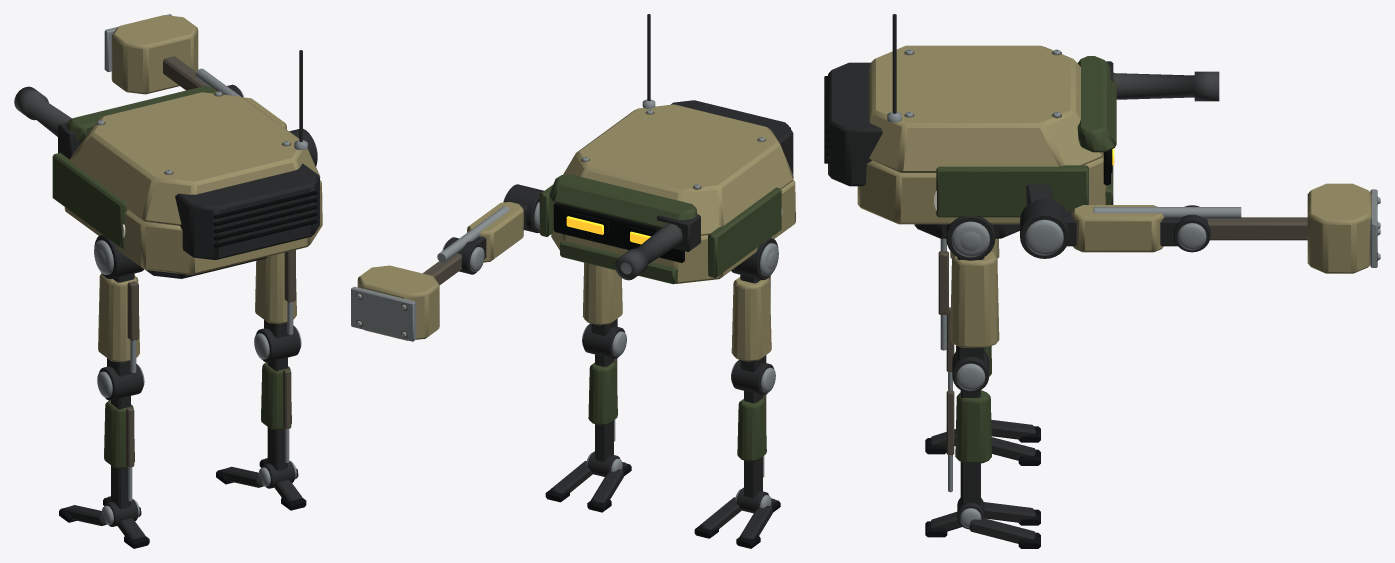
File: strider_09.glb
3 views of the same model, side by side, from view 1: azimuth 30°, elevation 25°; view 2: azimuth 150°, elevation 25°; view 3: azimuth 270°, elevation 25° (orthographic). The views are drawn at different scales.
Visible parts, largest first — view 1: HullSurface, ArmSurface, ShinRSurface, ShinLSurface, ThighLSurface, ThighRSurface, FootRSurface, FootLSurface; view 2: HullSurface, ArmSurface, ShinRSurface, ShinLSurface, ThighLSurface, ThighRSurface, FootLSurface, FootRSurface; view 3: HullSurface, ArmSurface, ThighRSurface, ShinRSurface, FootRSurface, FootLSurface.
Part boxes in pixels (x1=…): HullSurface: x1=14, y1=50, x2=322, y2=279; ArmSurface: x1=104, y1=14, x2=317, y2=166; ShinRSurface: x1=254, y1=325, x2=301, y2=470; ShinLSurface: x1=97, y1=364, x2=144, y2=509; ThighLSurface: x1=96, y1=249, x2=139, y2=376; ThighRSurface: x1=255, y1=250, x2=296, y2=338; FootRSurface: x1=216, y1=458, x2=306, y2=510; FootLSurface: x1=59, y1=496, x2=149, y2=548; HullSurface: x1=538, y1=14, x2=795, y2=284; ArmSurface: x1=351, y1=184, x2=544, y2=341; ShinRSurface: x1=582, y1=323, x2=626, y2=461; ShinLSurface: x1=731, y1=359, x2=775, y2=498; ThighLSurface: x1=731, y1=251, x2=776, y2=372; ThighRSurface: x1=582, y1=262, x2=622, y2=336; FootLSurface: x1=694, y1=487, x2=780, y2=548; FootRSurface: x1=545, y1=451, x2=631, y2=512; HullSurface: x1=824, y1=14, x2=1219, y2=260; ArmSurface: x1=1020, y1=183, x2=1380, y2=273; ThighRSurface: x1=938, y1=231, x2=999, y2=360; ShinRSurface: x1=946, y1=350, x2=991, y2=505; FootRSurface: x1=925, y1=498, x2=1040, y2=548; FootLSurface: x1=925, y1=419, x2=1040, y2=465.
Size of the model in its own units: 1.39 by 2.3 by 2.26.
